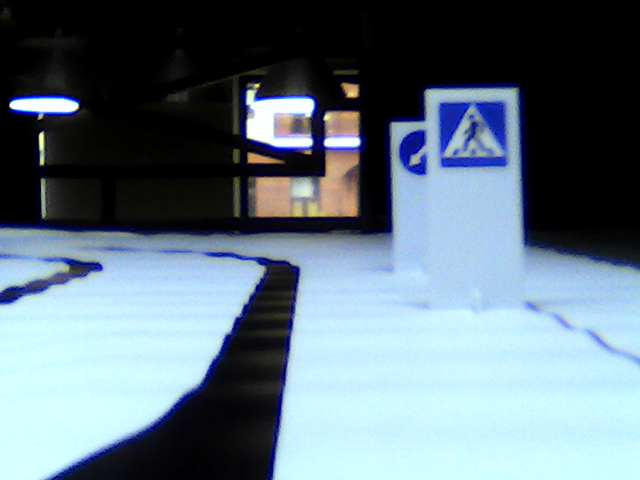pesh: (439, 104, 507, 172)
prep: (397, 123, 436, 179)
